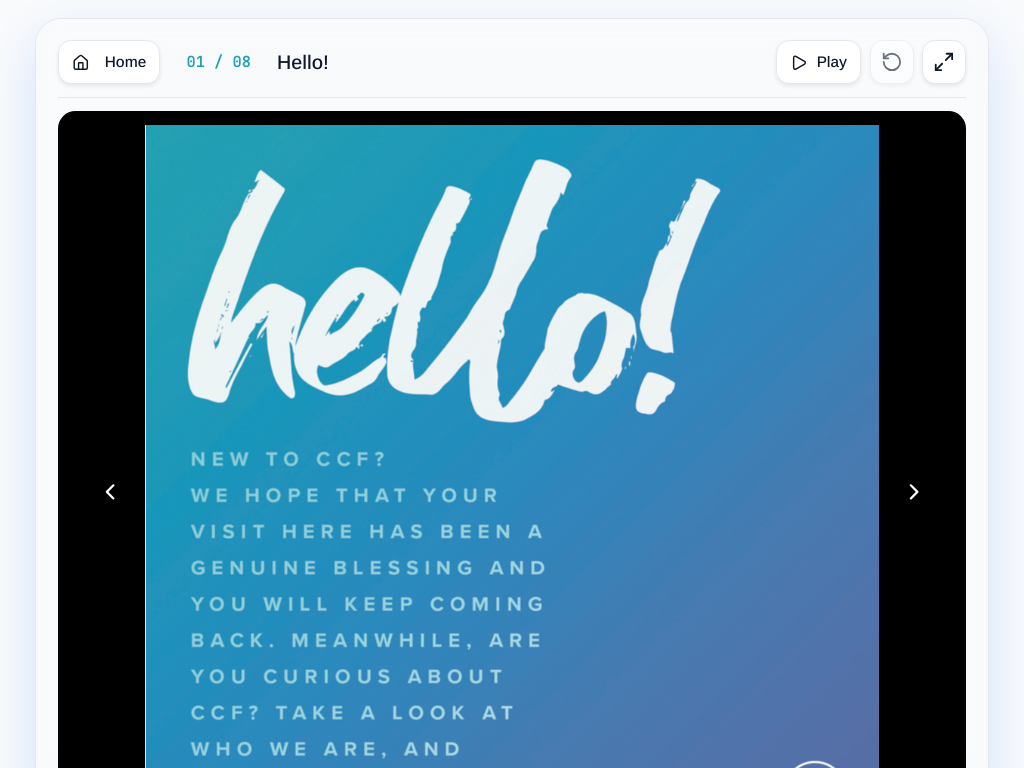
it: HelloCarouselPage › wraps around to the last slide when navigating backwards from first slide
Step 1. Click the button named "Previous slide" → (110,491), box [84, 465, 137, 518]
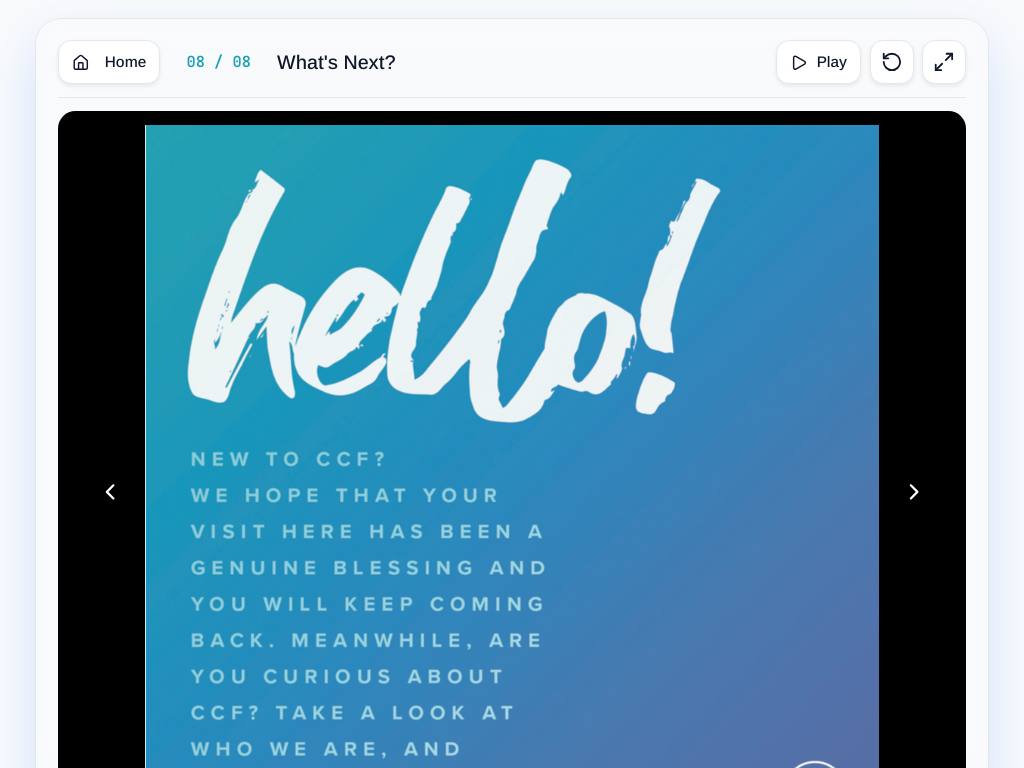
Expected: the text "08 / 08" is shown, [187, 51, 251, 72]
# Clicking Next on last slide wraps back to first slide
Step 2. Click the button named "Next slide" → (914,491), box [887, 465, 940, 518]
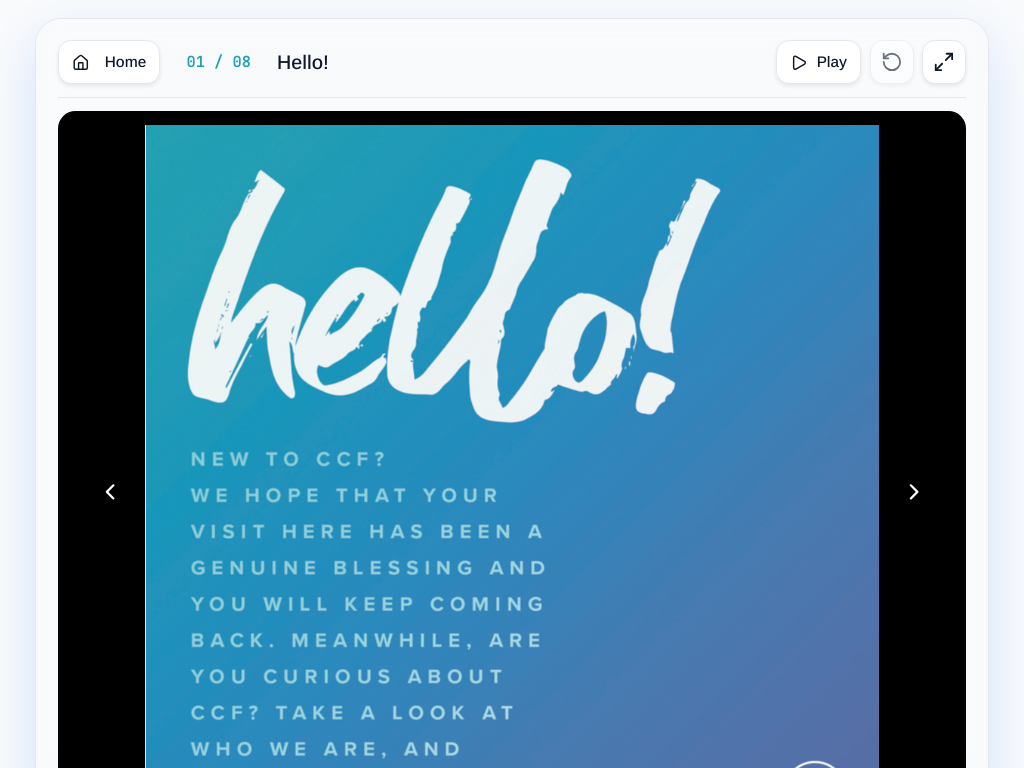
Expected: the text "01 / 08" is shown, [187, 51, 251, 72]
